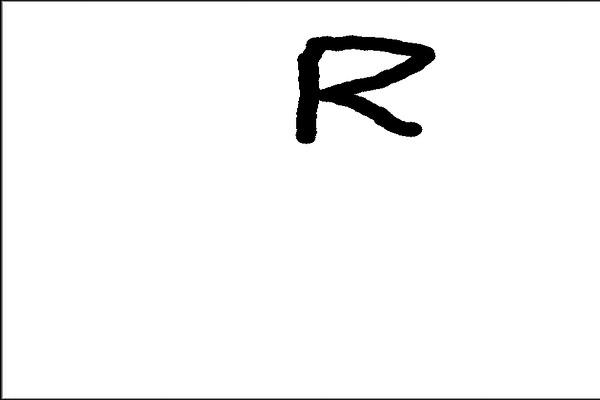R: (289, 27, 443, 151)
